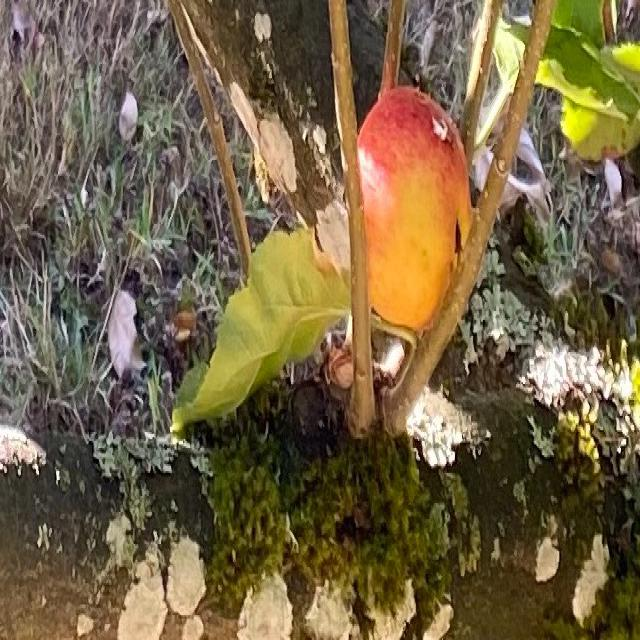Apples: (355, 85, 475, 327)
